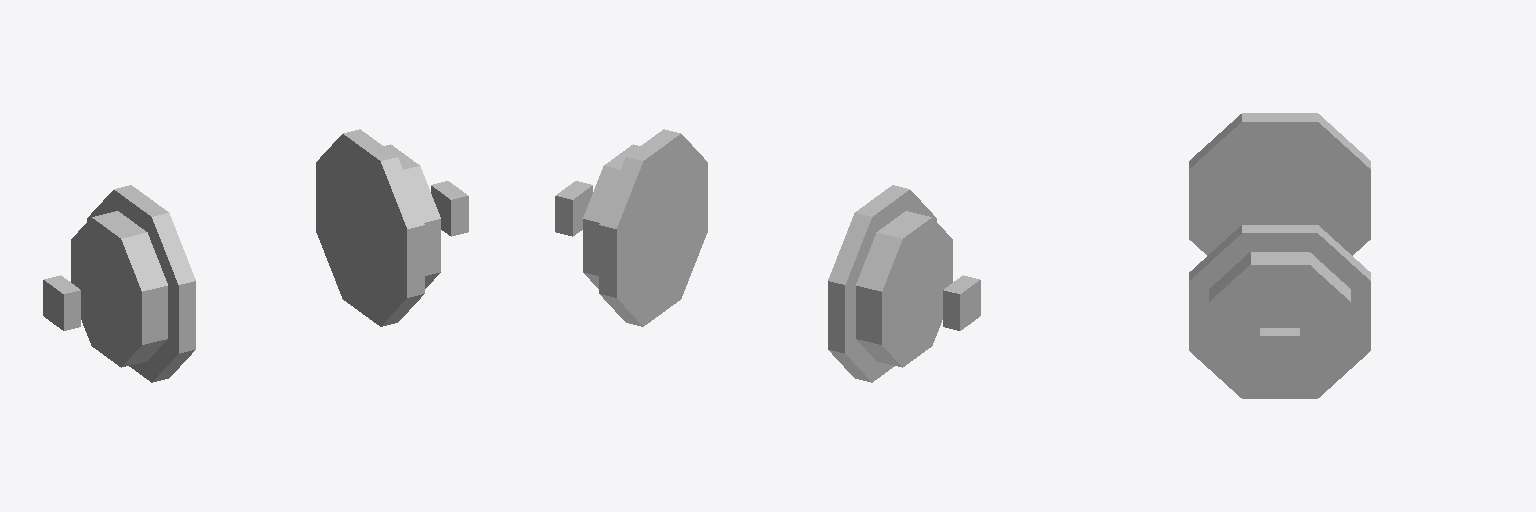
File: wheels.obj
The picture shows the model from 3 angles: view 1: azimuth 30°, elevation 25°; view 2: azimuth 150°, elevation 25°; view 3: azimuth 270°, elevation 25°; orthographic projection.
Visible parts, largest first — view 1: 18x18_ALT_Cube.002_1, 18x18_ALT_Cube.002_0, cube_1, cube_0; view 2: 18x18_ALT_Cube.002_1, 18x18_ALT_Cube.002_0, cube_1, cube_0; view 3: 18x18_ALT_Cube.002_1, 18x18_ALT_Cube.002_0, cube_0.
Boxes of the visible parts, box(x1,y1,x2,y2) form: 18x18_ALT_Cube.002_1: box(316, 129, 440, 326); 18x18_ALT_Cube.002_0: box(71, 185, 195, 382); cube_1: box(43, 275, 80, 330); cube_0: box(431, 181, 468, 236); 18x18_ALT_Cube.002_1: box(583, 129, 707, 326); 18x18_ALT_Cube.002_0: box(828, 185, 952, 382); cube_1: box(943, 275, 980, 330); cube_0: box(555, 181, 592, 236); 18x18_ALT_Cube.002_1: box(1189, 225, 1370, 398); 18x18_ALT_Cube.002_0: box(1189, 113, 1370, 255); cube_0: box(1260, 328, 1299, 372).
Bounding box in the file's own units: 2.88 × 1.12 × 1.12.